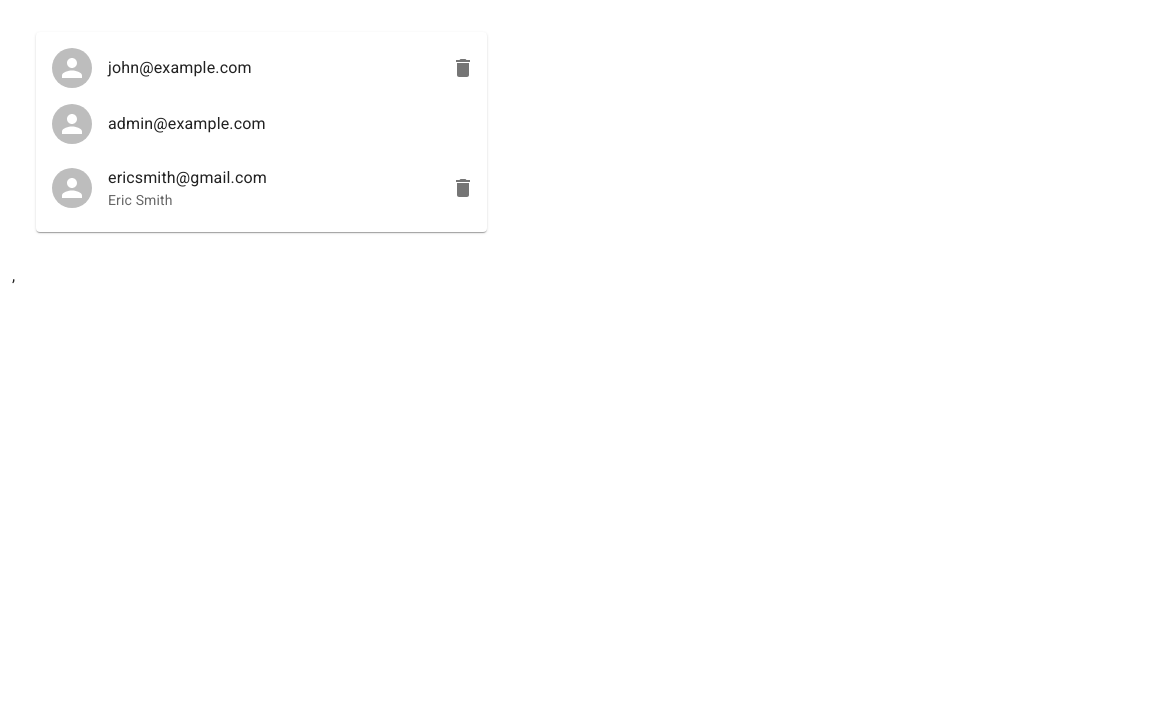
Scenario: should display profile info when user selected
Expected: the list is shown, [36, 32, 487, 232]
Click the button with test id "48f0c771-1d00-4595-b1b4-f2ee060237bc" at (152, 68), box [52, 48, 252, 88]
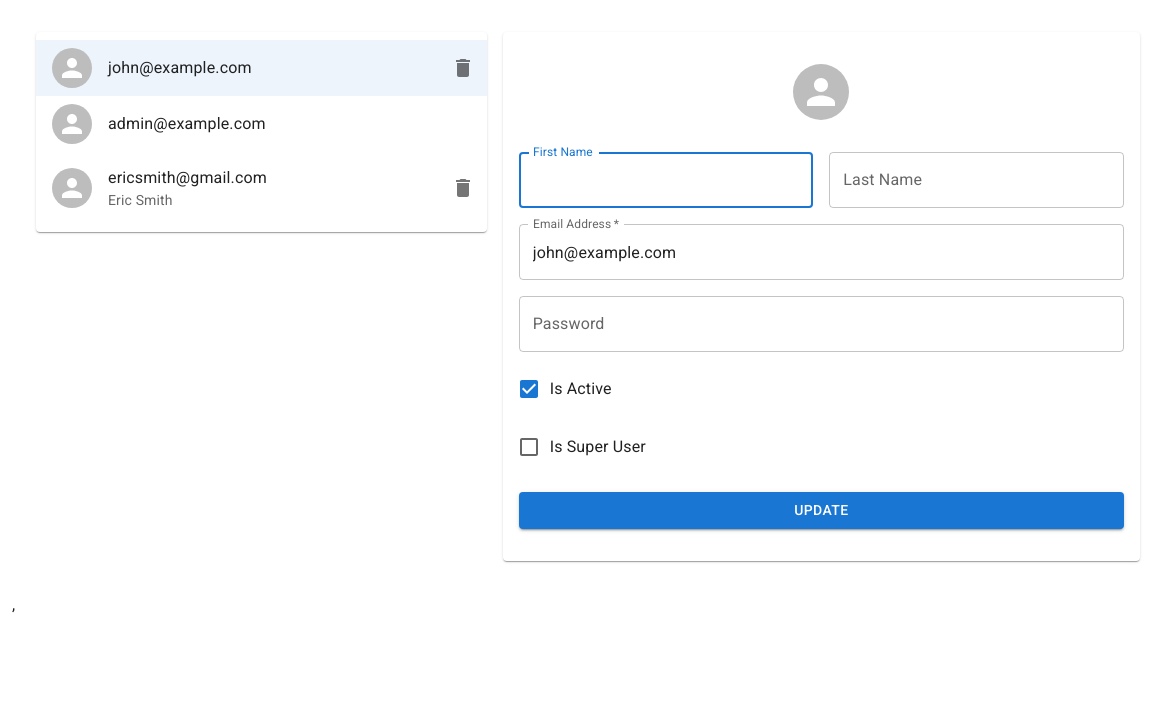
Result: the field labelled "Email Address *" holds "john@example.com" at [519, 224, 1124, 280]
Click the button with test id "6bb9c5ba-e558-4a2a-9a33-22b2f21072d0" at (159, 124), box [52, 104, 266, 144]
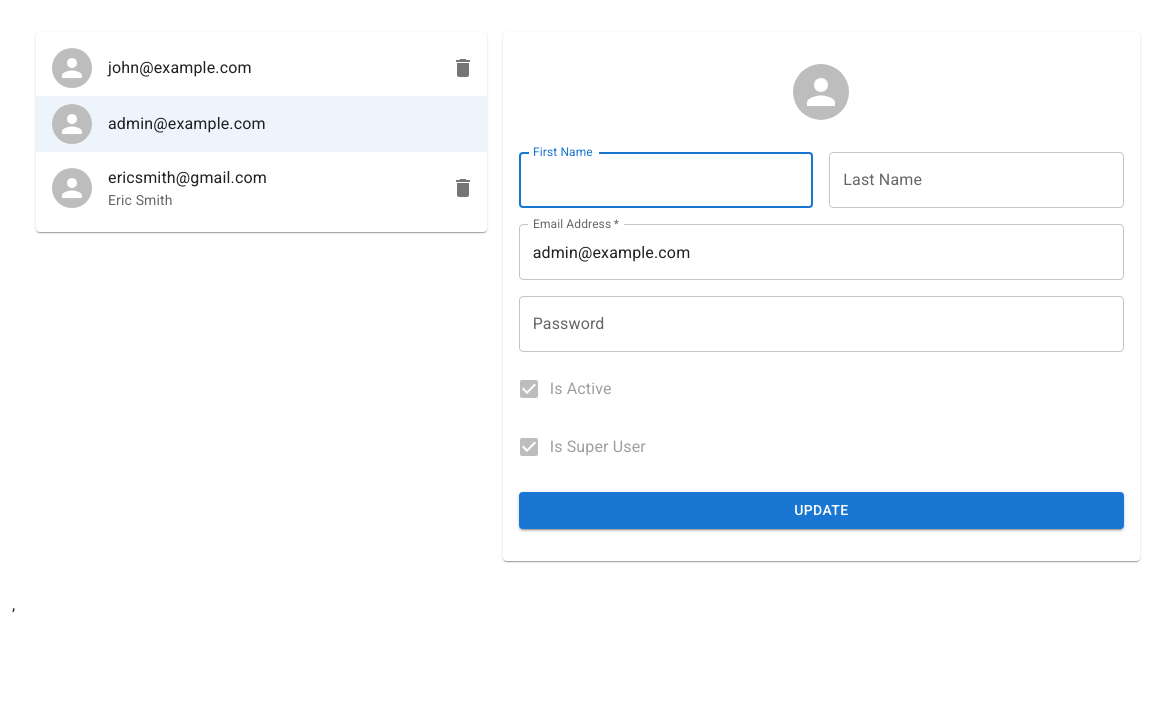
Result: the field labelled "Email Address *" holds "admin@example.com" at [519, 224, 1124, 280]
Click the button with test id "d1ba04b9-cd9f-40fe-8956-8a0198f47884" at (159, 188), box [52, 168, 267, 208]
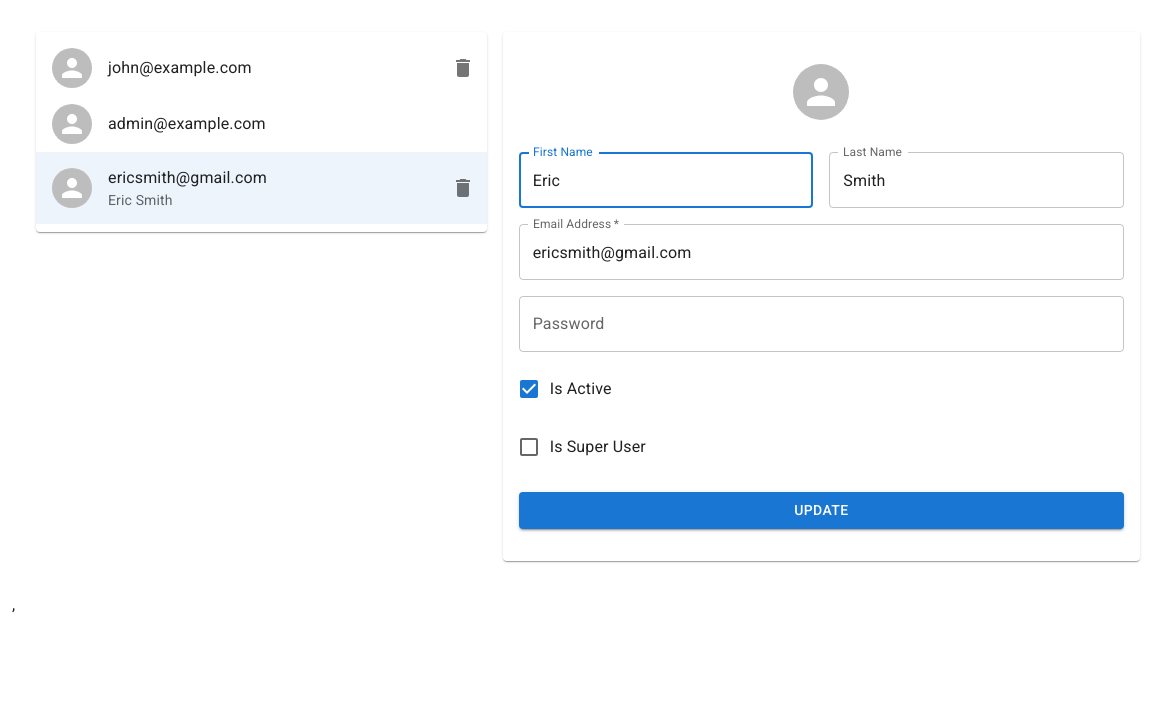
Result: the field labelled "Email Address *" holds "ericsmith@gmail.com" at [519, 224, 1124, 280]
